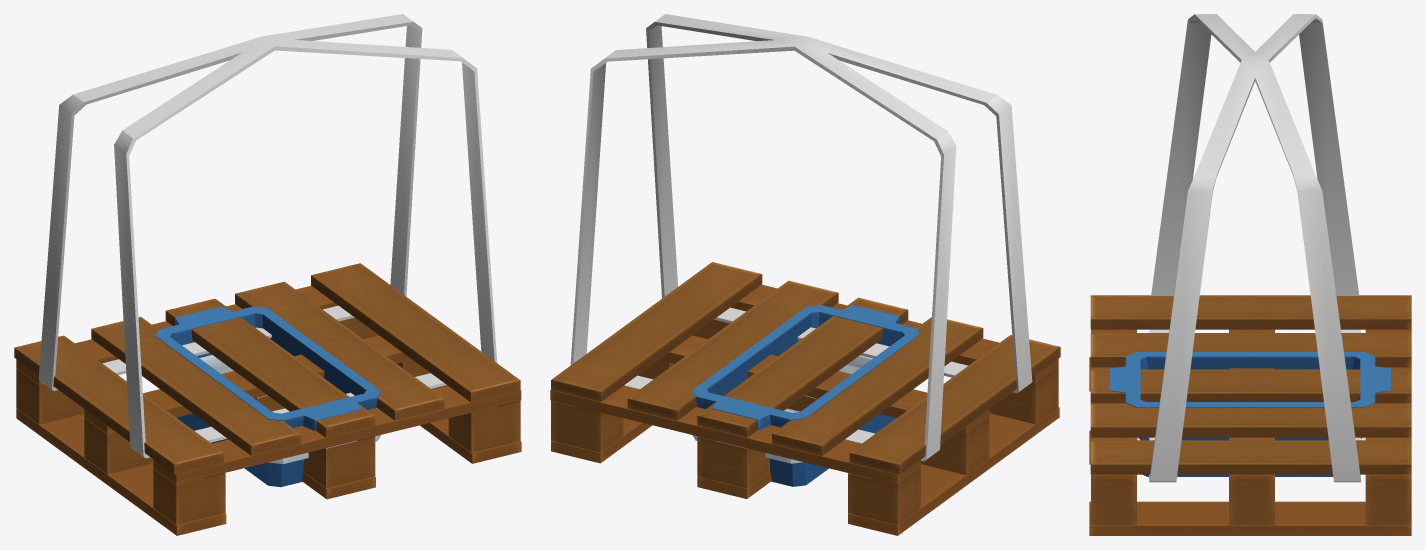
File: paleta.fbx
3 views of the same model, side by side, from view 1: azimuth 30°, elevation 25°; view 2: azimuth 150°, elevation 25°; view 3: azimuth 270°, elevation 25° (orthographic).
Visible parts, largest first — view 1: palet, stropa, Fishbox, Fishbox up; view 2: palet, stropa, Fishbox, Fishbox up; view 3: palet, stropa, Fishbox.
Part boxes in pixels (x1,y1,x2,y2): palet: (14,263,521,535); stropa: (38,14,497,458); Fishbox: (155,306,381,487); Fishbox up: (199,355,380,463); palet: (550,262,1060,535); stropa: (570,14,1032,461); Fishbox: (692,305,919,486); Fishbox up: (692,355,872,463); palet: (1089,295,1411,535); stropa: (1149,14,1360,482); Fishbox: (1110,352,1390,476).
Size of the model in its own units: 72.35 by 76.55 by 56.9.
